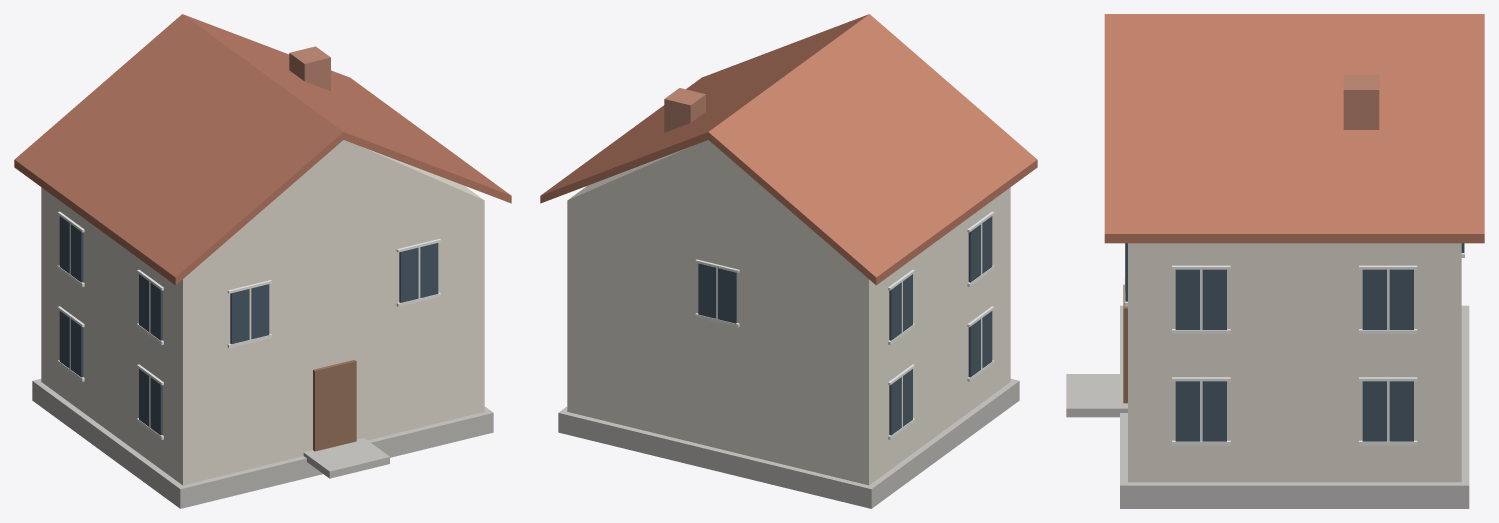
The model's file is house_a.glb.
The picture shows the model from 3 angles, left to right: view 1: azimuth 30°, elevation 25°; view 2: azimuth 150°, elevation 25°; view 3: azimuth 270°, elevation 25°; orthographic projection. The views are drawn at different scales.
Visible parts, largest first — view 1: house_a; view 2: house_a; view 3: house_a.
Part boxes in pixels (bbox=[...]): house_a: bbox=[14, 14, 511, 508]; house_a: bbox=[540, 14, 1037, 508]; house_a: bbox=[1066, 14, 1484, 508].
Bounding box in the file's own units: 8.9 × 8.7 × 8.15.
